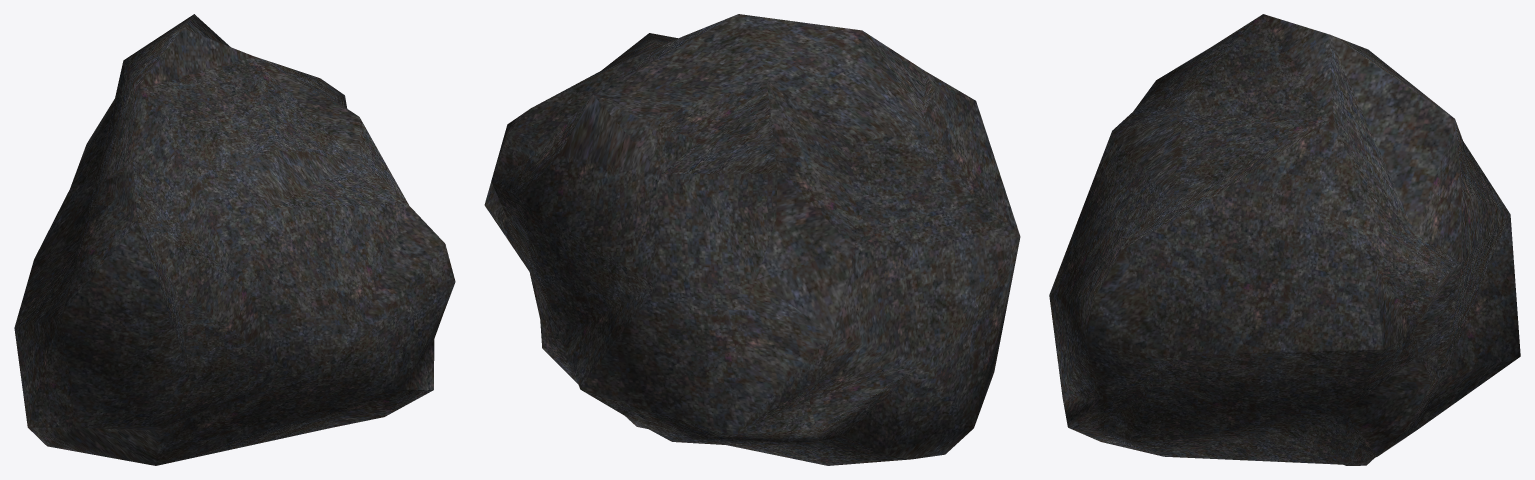
File: asteroid_metal_large_s01_l2.fbx
3 renders of one model, left to right at view 1: azimuth 30°, elevation 25°; view 2: azimuth 150°, elevation 25°; view 3: azimuth 270°, elevation 25°, orthographic. The views are drawn at different scales.
Parts seen in each view (by area): view 1: mesh_node; view 2: mesh_node; view 3: mesh_node.
Boxes of the visible parts, x1=… form: mesh_node: x1=14, y1=14, x2=455, y2=465; mesh_node: x1=484, y1=14, x2=1020, y2=465; mesh_node: x1=1049, y1=14, x2=1520, y2=465.
Bounding box in the file's own units: 114 × 111 × 114.
